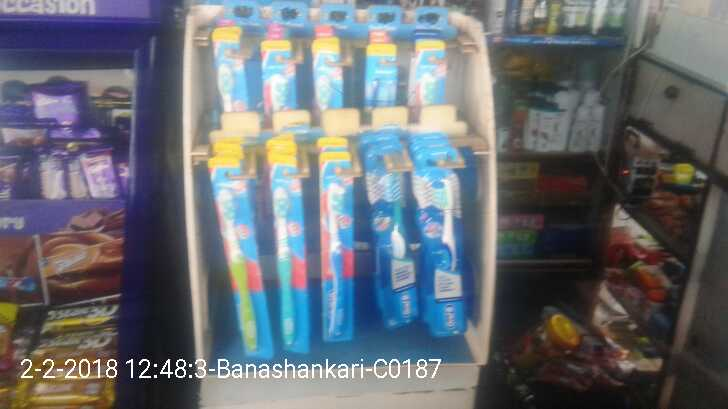oralb: (209, 174, 265, 367), (365, 167, 419, 331), (420, 165, 462, 327), (317, 172, 356, 342), (272, 174, 308, 352)
